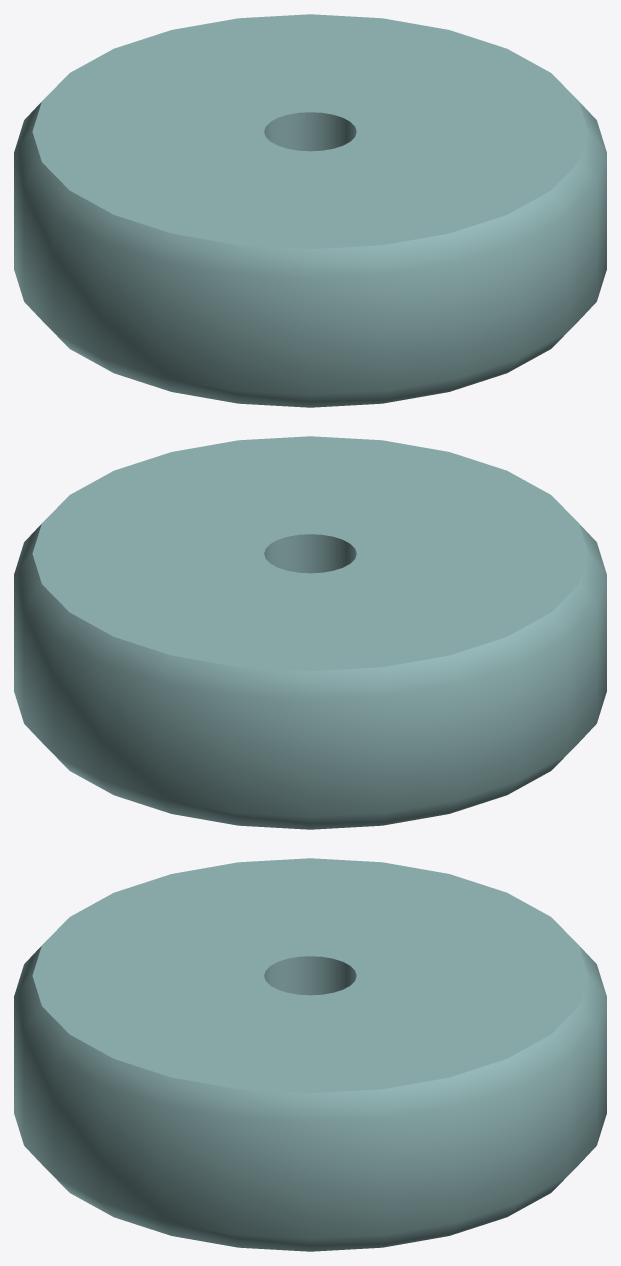
Rendered from ring1.gltf.
3 renders of one model, top to bottom at view 1: azimuth 30°, elevation 25°; view 2: azimuth 150°, elevation 25°; view 3: azimuth 270°, elevation 25°, orthographic.
Visible parts, largest first — view 1: 1; view 2: 1; view 3: 1.
Part boxes in pixels (bbox=[...]): 1: bbox=[14, 14, 606, 407]; 1: bbox=[14, 436, 606, 829]; 1: bbox=[14, 858, 606, 1251].
Bounding box in the file's own units: 0.5202 × 0.1534 × 0.5202.
